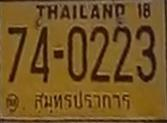0: (67, 26, 86, 81)
2: (89, 26, 110, 83), (112, 26, 133, 82)
3: (135, 25, 156, 81)
4: (29, 26, 48, 82)
7: (7, 26, 27, 80)
SPK: (32, 88, 132, 114)
